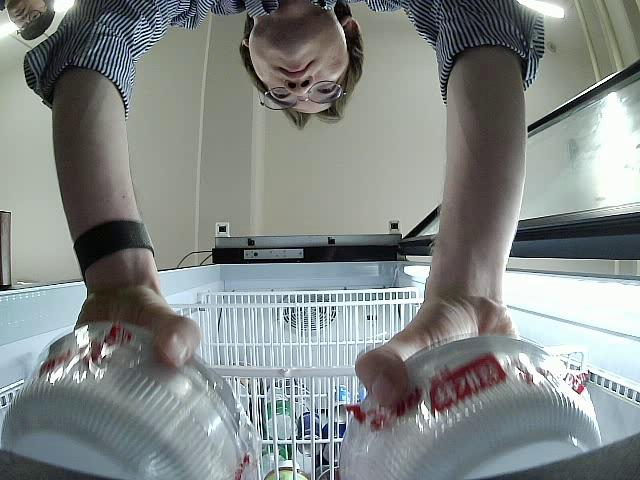00_hand: (355, 302, 521, 417), (71, 290, 203, 375)
09_yukGaeJang: (0, 322, 262, 480), (335, 335, 602, 480)
